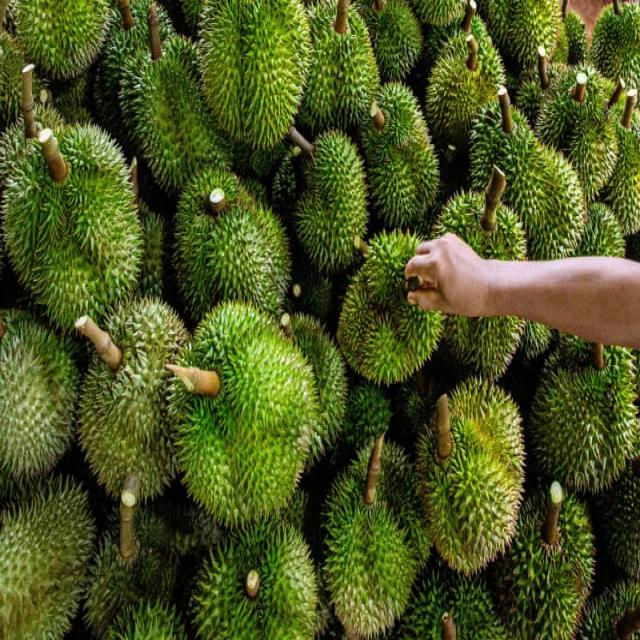immature: (169, 308, 317, 521), (4, 122, 141, 335), (75, 298, 193, 499), (416, 380, 528, 570), (318, 440, 426, 637), (426, 196, 529, 383), (170, 168, 290, 319), (120, 35, 223, 201), (340, 230, 446, 385), (202, 3, 306, 148), (1, 479, 94, 636), (549, 204, 632, 376), (84, 504, 192, 636), (530, 354, 632, 492), (496, 495, 593, 634), (1, 316, 77, 482), (359, 89, 440, 232), (290, 128, 369, 274), (534, 64, 617, 197), (297, 3, 379, 136), (501, 134, 588, 257), (424, 27, 506, 154), (94, 7, 158, 143), (186, 534, 266, 638), (252, 525, 323, 638), (17, 2, 109, 80), (467, 99, 527, 198), (492, 2, 563, 72), (366, 3, 424, 84), (0, 110, 44, 212), (56, 122, 128, 184), (597, 469, 639, 573), (590, 2, 638, 82), (572, 204, 626, 258)
